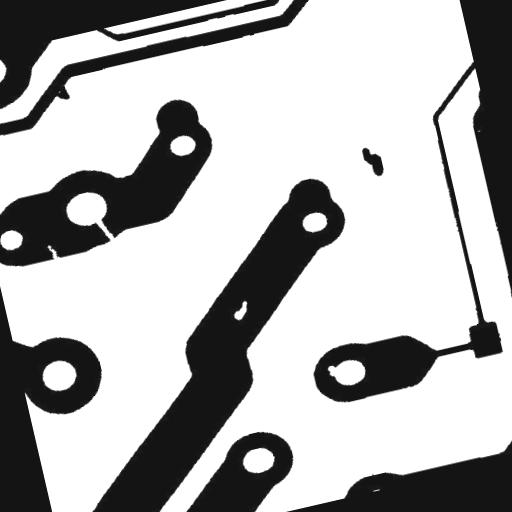copper: (352, 136, 393, 188)
mousebite: (38, 234, 70, 271), (318, 356, 348, 386)
open: (84, 204, 126, 258)
pin-hole: (222, 292, 260, 330)
spur: (46, 74, 78, 110)
